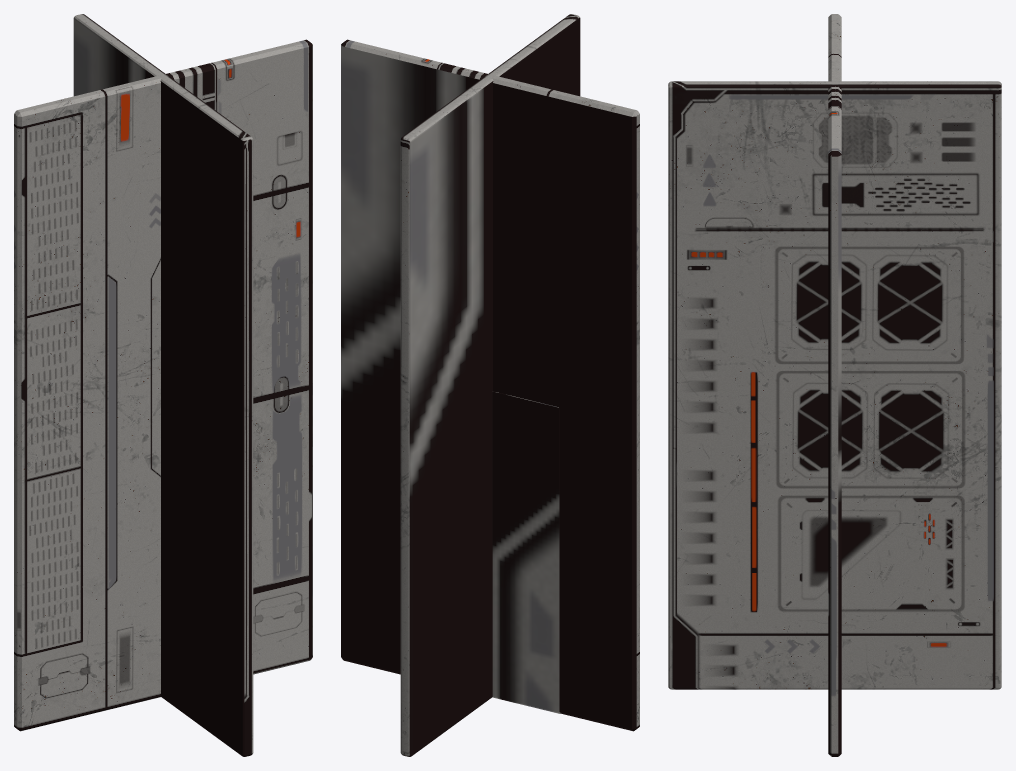
The model's file is wall_new.fbx.
3 renders of one model, left to right at view 1: azimuth 30°, elevation 25°; view 2: azimuth 150°, elevation 25°; view 3: azimuth 270°, elevation 25°, orthographic. The views are drawn at different scales.
Parts seen in each view (by area): view 1: W2, W1; view 2: W2, W1, pasted__pCube6; view 3: W1, W2.
Part boxes in pixels (x1,y1,x2,y2): W2: [14, 39, 312, 731]; W1: [73, 14, 253, 756]; W2: [341, 39, 639, 731]; W1: [400, 14, 580, 756]; pasted__pCube6: [492, 391, 560, 713]; W1: [668, 81, 1001, 689]; W2: [828, 14, 841, 756].
Bounding box in the file's own units: 25 × 50 × 25.
